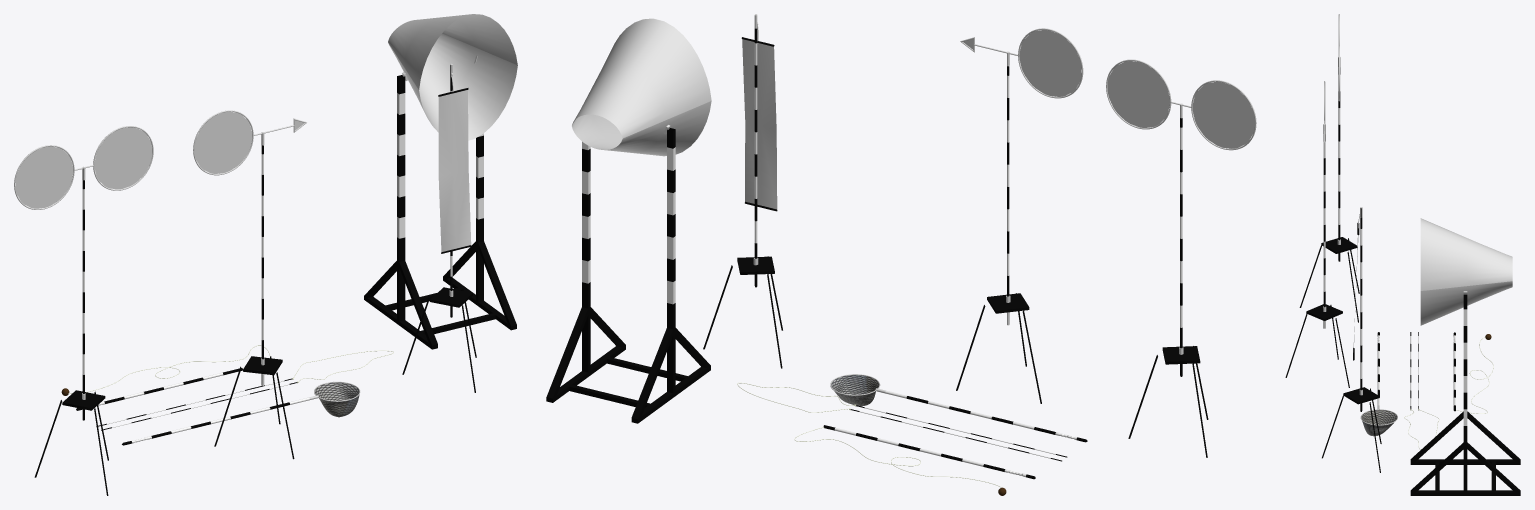
The model's file is rama.glb.
The picture shows the model from 3 angles, left to right: view 1: azimuth 30°, elevation 25°; view 2: azimuth 150°, elevation 25°; view 3: azimuth 270°, elevation 25°; orthographic projection. The views are drawn at different scales.
Visible parts, largest first — view 1: metal.002, noir.002, metal.004, Objet_70, metal, noir.004, noir.003, noir.001, net, white.002; view 2: metal.002, noir.002, metal.004, Objet_70, metal, noir.001, noir.004, noir.003, white.002, net; view 3: metal.002, noir.002, noir.001, noir.004, noir.003, net, white.002.
Boxes of the visible parts, bbox=[...] form: metal.002: bbox=[388, 14, 517, 140]; noir.002: bbox=[364, 75, 516, 349]; metal.004: bbox=[14, 126, 153, 399]; Objet_70: bbox=[438, 90, 471, 252]; metal: bbox=[193, 110, 307, 385]; noir.004: bbox=[34, 169, 108, 495]; noir.003: bbox=[214, 145, 294, 459]; noir.001: bbox=[402, 65, 476, 392]; net: bbox=[314, 382, 359, 417]; white.002: bbox=[397, 93, 483, 238]; metal.002: bbox=[572, 18, 711, 156]; noir.002: bbox=[546, 128, 710, 423]; metal.004: bbox=[1106, 59, 1256, 354]; Objet_70: bbox=[742, 39, 777, 209]; metal: bbox=[960, 28, 1083, 325]; noir.001: bbox=[703, 28, 782, 368]; noir.004: bbox=[1128, 118, 1208, 457]; noir.003: bbox=[956, 66, 1041, 403]; white.002: bbox=[582, 141, 675, 304]; net: bbox=[831, 375, 879, 406]; metal.002: bbox=[1420, 218, 1512, 325]; noir.002: bbox=[1410, 294, 1520, 495]; noir.001: bbox=[1322, 208, 1381, 472]; noir.004: bbox=[1299, 67, 1359, 322]; noir.003: bbox=[1285, 134, 1349, 387]; net: bbox=[1361, 409, 1397, 436]; white.002: bbox=[1463, 309, 1467, 425].
Size of the model in its own units: 2.81 by 1.75 by 1.28.
25 materials, 1 textured.
